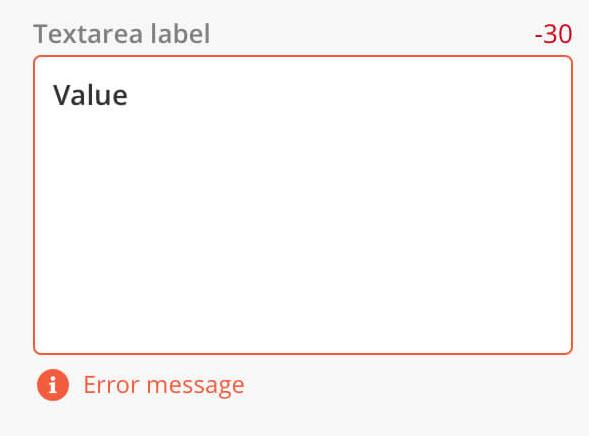field: (27, 50, 574, 357)
field_with_label: (21, 19, 583, 356)
